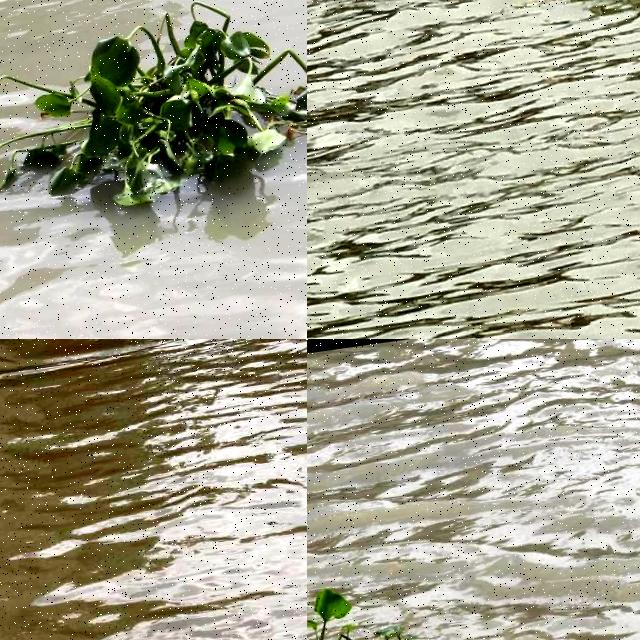water-hyacinth: (1, 1, 308, 227), (308, 541, 424, 640)
